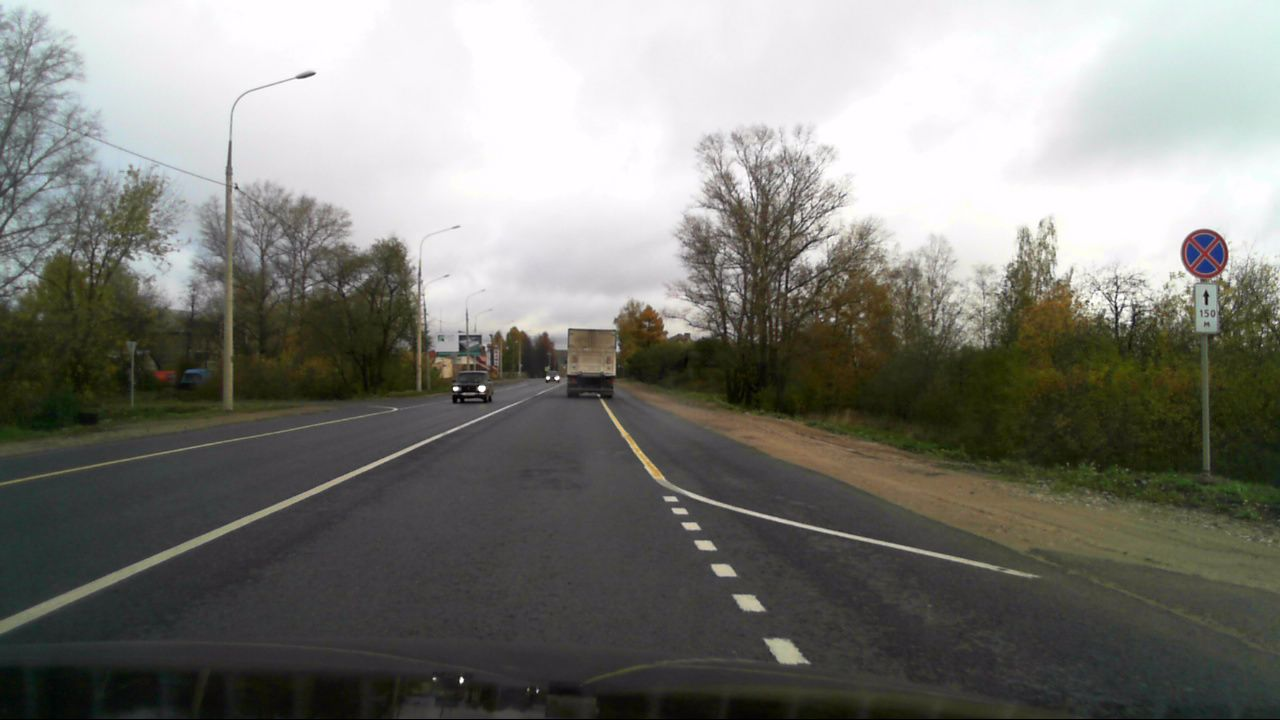No Parking: (1181, 229, 1228, 279)
